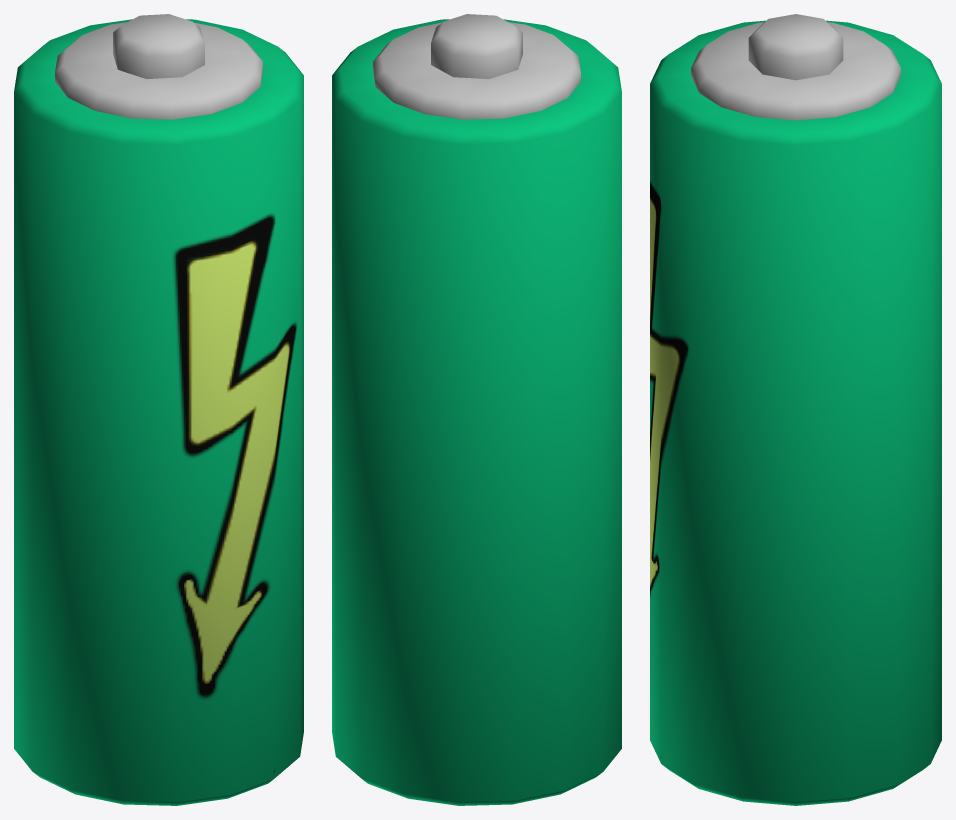
Rendered from power-up.fbx.
The picture shows the model from 3 angles, left to right: view 1: azimuth 30°, elevation 25°; view 2: azimuth 150°, elevation 25°; view 3: azimuth 270°, elevation 25°; orthographic projection.
Parts seen in each view (by area): view 1: Cylinder; view 2: Cylinder; view 3: Cylinder.
Part boxes in pixels (x1=…): Cylinder: x1=14, y1=14, x2=303, y2=805; Cylinder: x1=332, y1=14, x2=621, y2=805; Cylinder: x1=650, y1=14, x2=941, y2=805.
Size of the model in its own units: 78.77 by 218 by 78.77.
